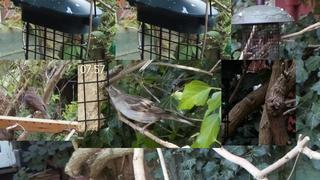sparrow: (104, 84, 195, 136)
starling: (24, 86, 51, 119)
